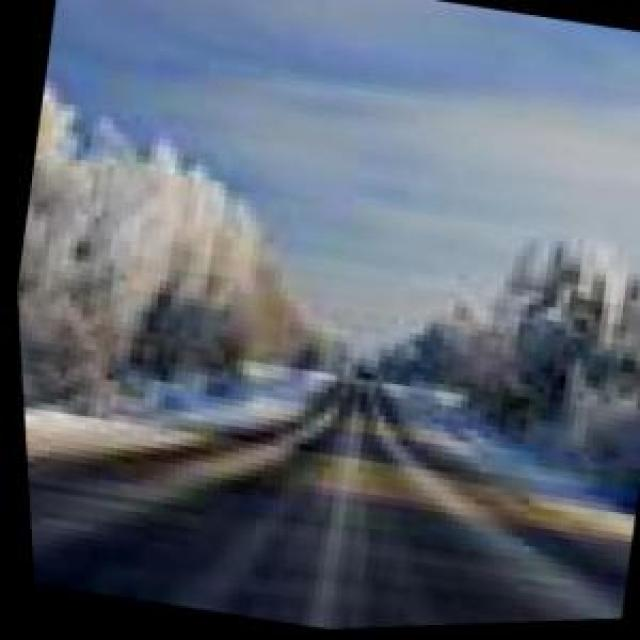clear-road: (22, 377, 618, 631)
ice-road: (19, 0, 640, 628)
